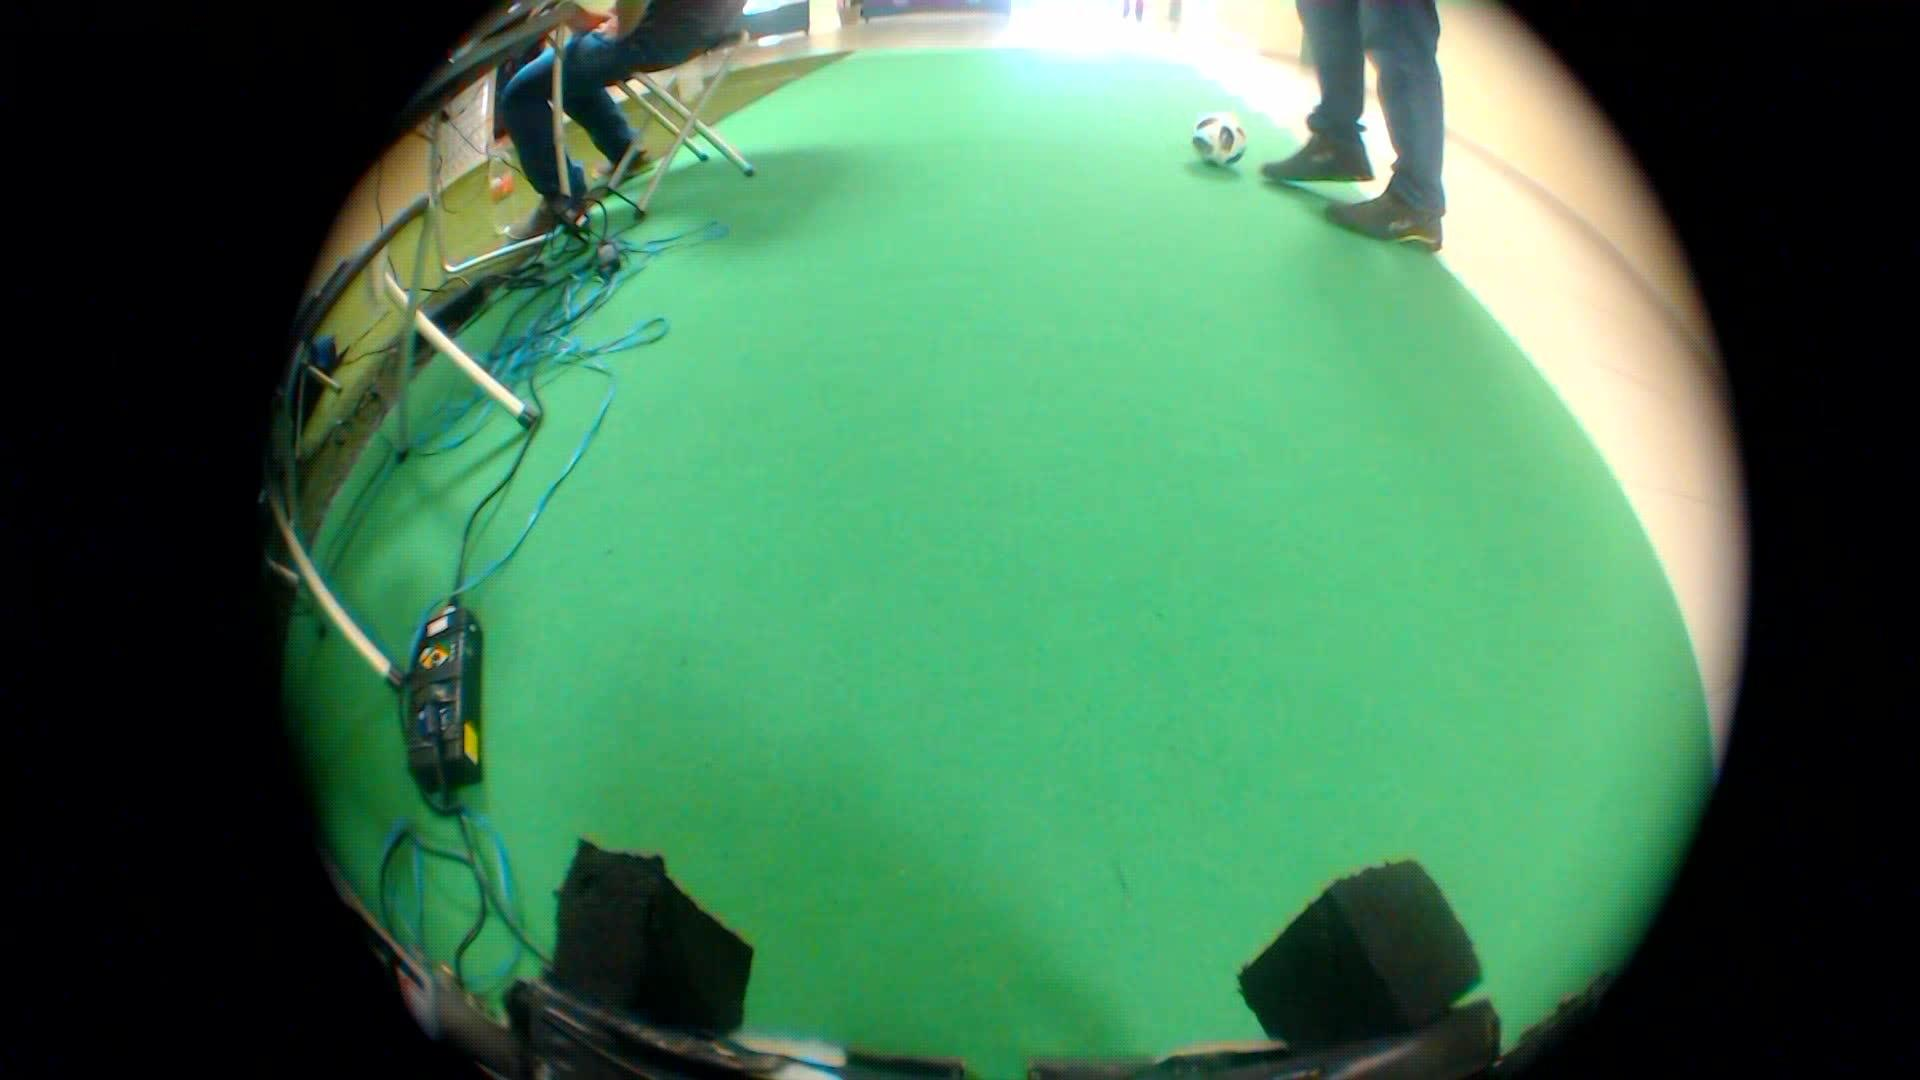ball: (1183, 103, 1255, 179)
